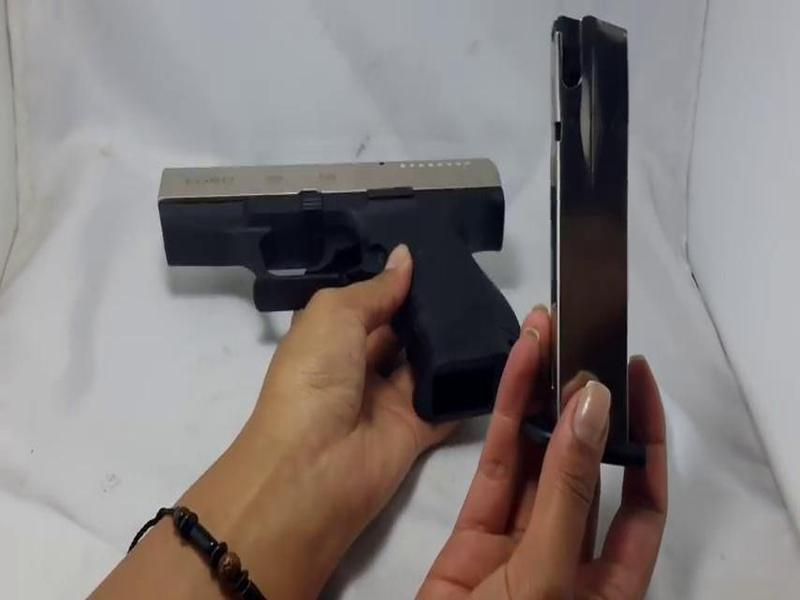Pistola: (137, 151, 543, 413)
